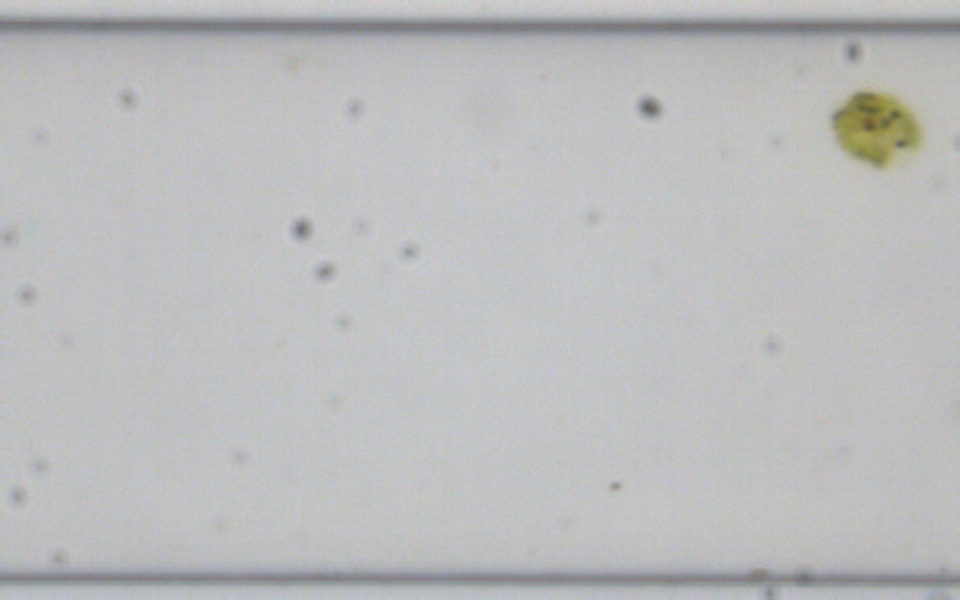Haematococcus: (827, 88, 921, 171)
